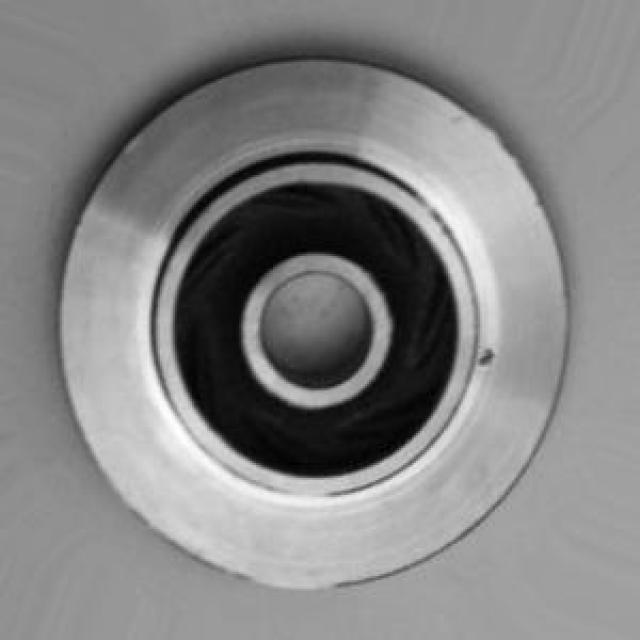Defect: (473, 342, 508, 375)
